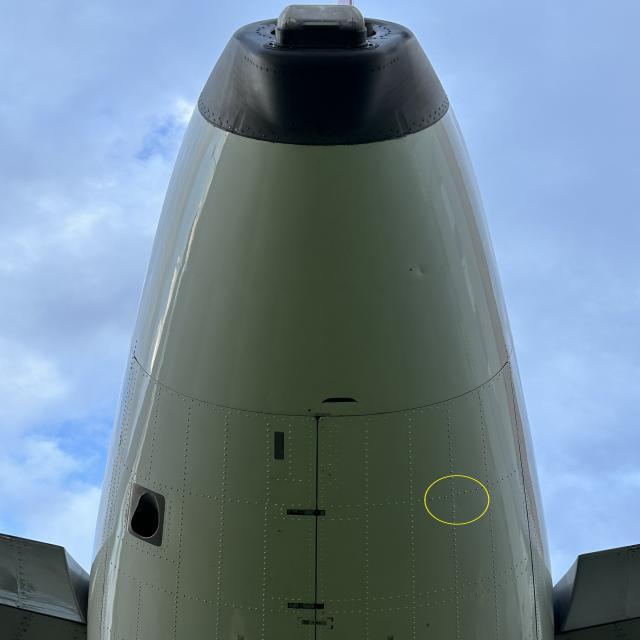dent: (404, 250, 446, 292), (436, 485, 472, 519)
